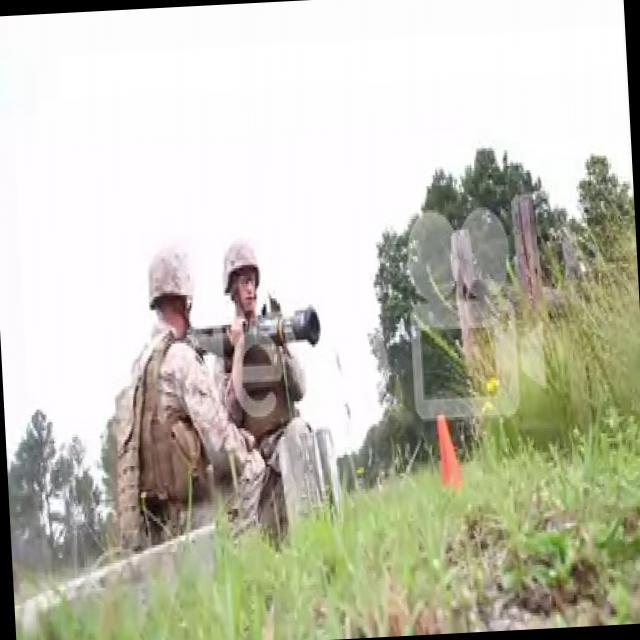rocket: (188, 307, 322, 364)
